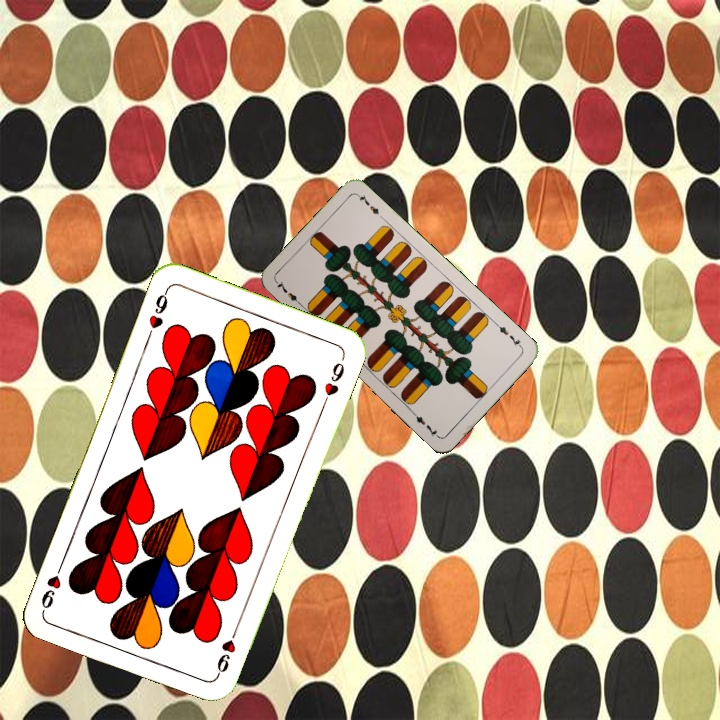E7: (272, 277, 305, 310), (492, 319, 525, 351)
H9: (212, 622, 241, 679), (143, 285, 171, 342)
